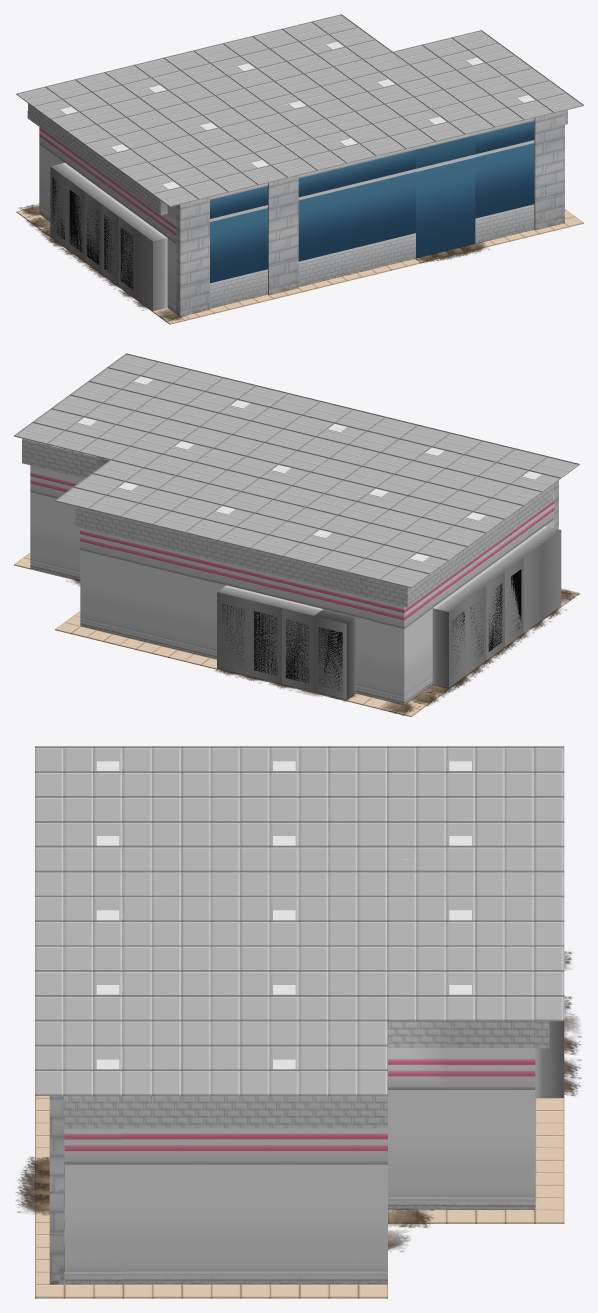
File: corner_store.glb
3 views of the same model, one above another, from view 1: azimuth 30°, elevation 25°; view 2: azimuth 150°, elevation 25°; view 3: azimuth 270°, elevation 25° (orthographic). The views are drawn at different scales.
Visible parts, largest first — view 1: Object_4, Object_22, Object_5, Object_3, Object_6, Object_21, Object_2; view 2: Object_4, Object_5, Object_6, Object_3, Object_21, Object_2; view 3: Object_4, Object_5, Object_3, Object_21, Object_2, Object_22.
Part boxes in pixels (box(x1,y1,x2,y2)): Object_4: box(16, 14, 583, 206); Object_22: box(176, 110, 564, 316); Object_5: box(27, 103, 567, 313); Object_3: box(16, 206, 583, 324); Object_6: box(52, 177, 133, 289); Object_21: box(19, 204, 489, 321); Object_2: box(60, 42, 534, 189); Object_4: box(14, 353, 579, 588); Object_5: box(22, 439, 561, 704); Object_6: box(222, 569, 521, 690); Object_3: box(14, 553, 579, 716); Object_21: box(67, 578, 579, 715); Object_2: box(77, 376, 541, 562); Object_4: box(35, 746, 564, 1095); Object_5: box(64, 1021, 564, 1284); Object_3: box(35, 1096, 564, 1298); Object_21: box(16, 951, 581, 1251); Object_2: box(96, 761, 471, 1069); Object_22: box(49, 1096, 64, 1284).
Bounding box in the file's own units: 14.84 × 3.97 × 10.04.
9 materials, 8 textured.
